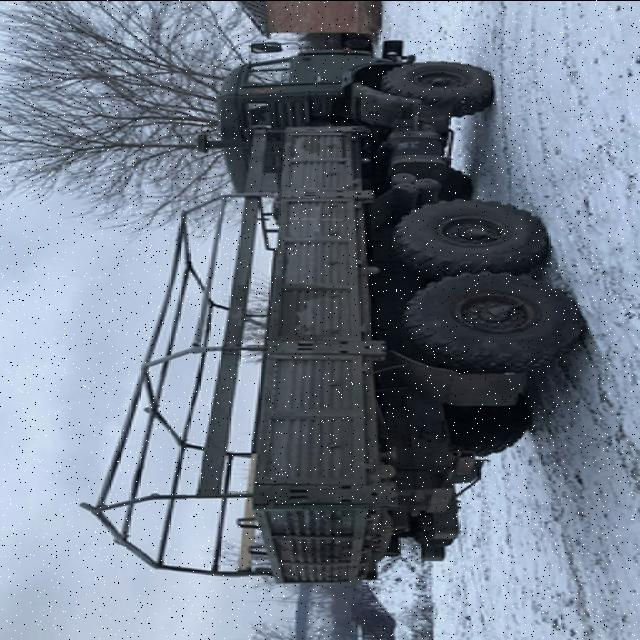TRUCK: (76, 22, 606, 582)
